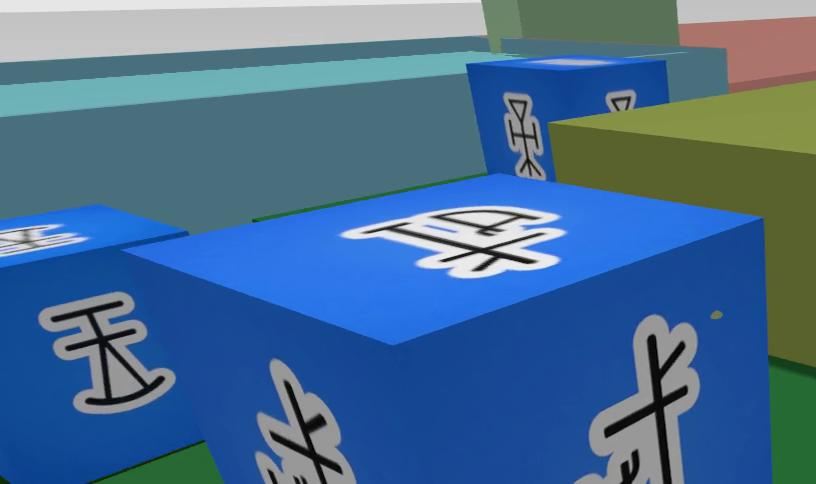KFS_REAL: (131, 174, 771, 484), (0, 205, 200, 484), (468, 55, 669, 179), (576, 315, 700, 484), (38, 292, 174, 414), (341, 206, 565, 279), (256, 358, 356, 484), (503, 94, 546, 179)
